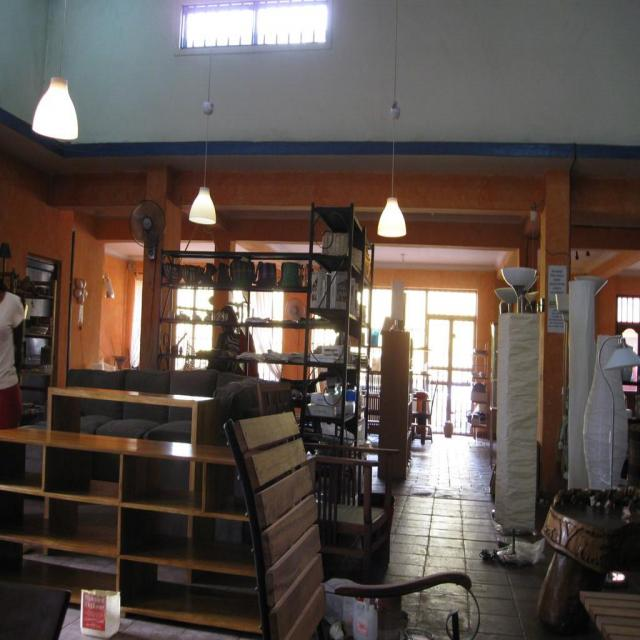table: (537, 488, 640, 640)
